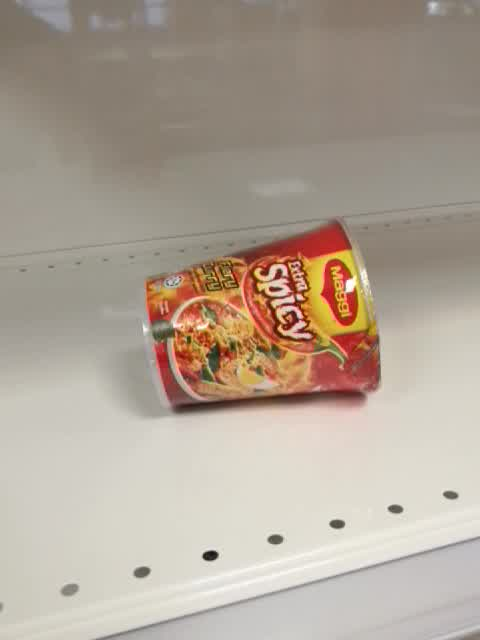maggi: (142, 215, 384, 413)
